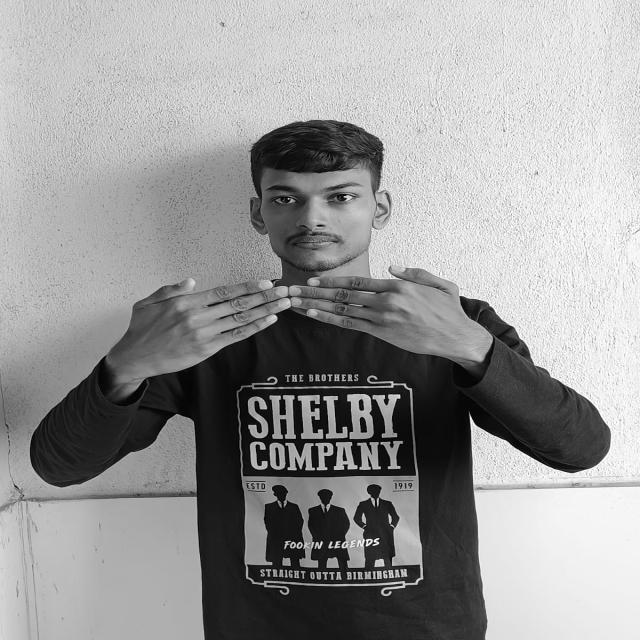Night: (106, 265, 480, 373)
